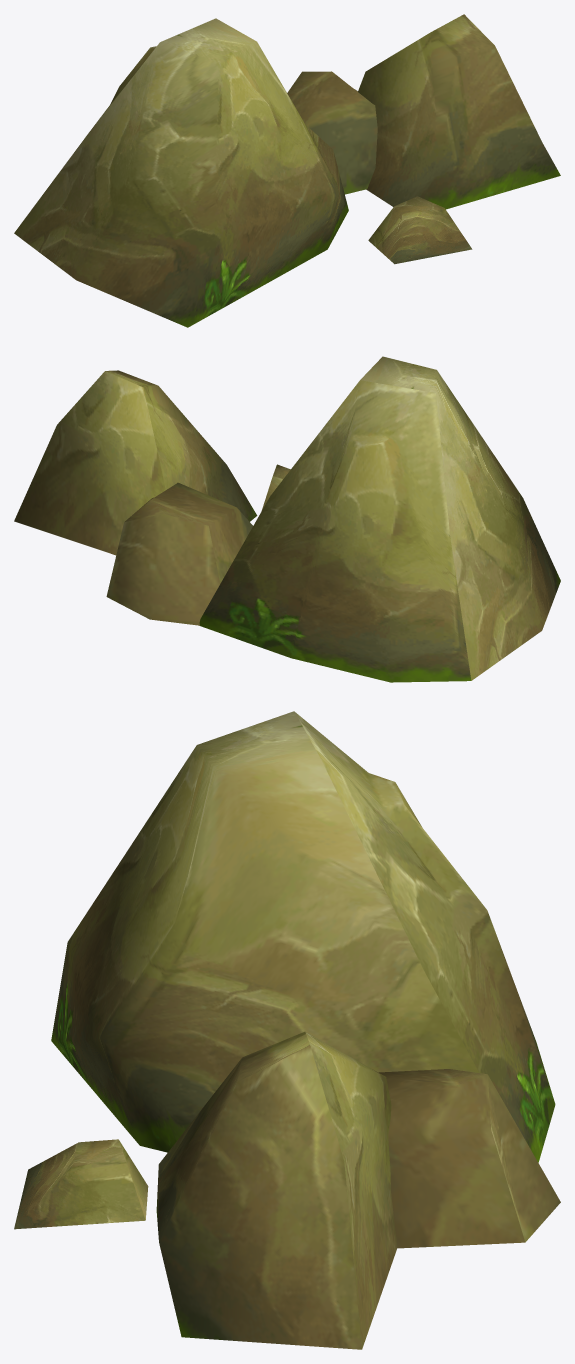
File: loyalismwood_stone03.FBX
The picture shows the model from 3 angles, top to bottom: view 1: azimuth 30°, elevation 25°; view 2: azimuth 150°, elevation 25°; view 3: azimuth 270°, elevation 25°; orthographic projection. The views are drawn at different scales.
Visible parts, largest first — view 1: loyalismwood_stone03; view 2: loyalismwood_stone03; view 3: loyalismwood_stone03.
Part boxes in pixels (x1,y1,x2,y2): loyalismwood_stone03: [14, 14, 560, 327]; loyalismwood_stone03: [14, 356, 560, 682]; loyalismwood_stone03: [14, 711, 560, 1349].
Size of the model in its own units: 431 by 261 by 195.
